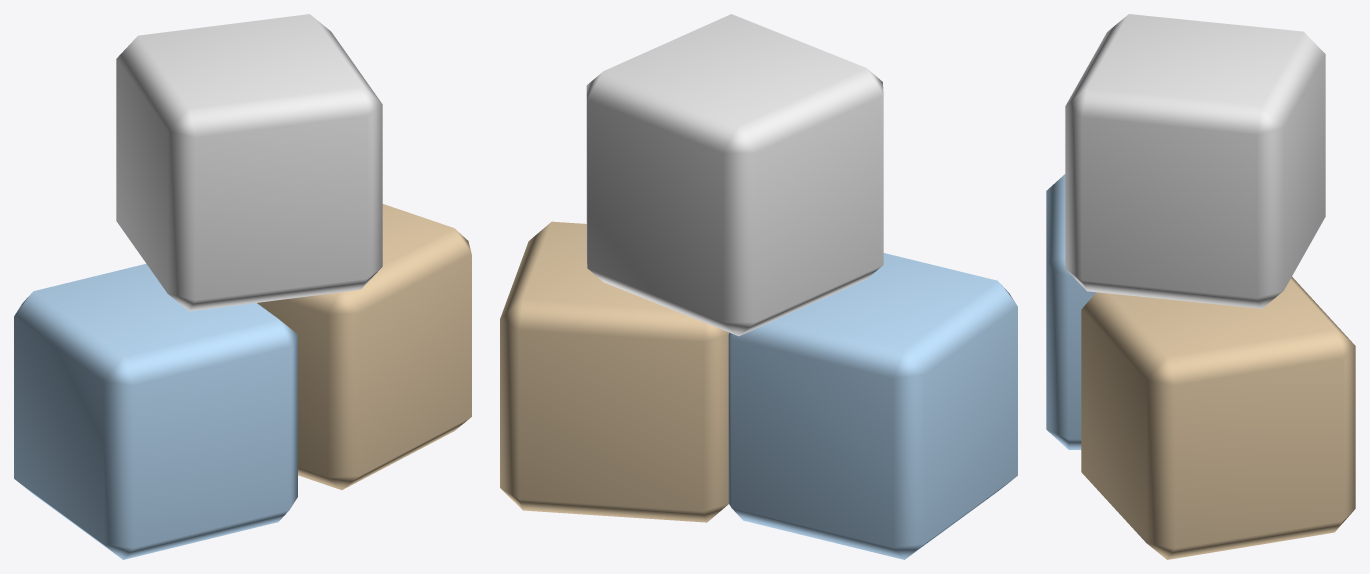
The model's file is prop_011.fbx.
3 views of the same model, side by side, from view 1: azimuth 30°, elevation 25°; view 2: azimuth 150°, elevation 25°; view 3: azimuth 270°, elevation 25° (orthographic). The views are drawn at different scales.
Parts seen in each view (by area): view 1: prop_011; view 2: prop_011; view 3: prop_011.
Boxes of the visible parts, x1,y1,x2,y2 form: prop_011: [14, 14, 471, 559]; prop_011: [500, 14, 1017, 559]; prop_011: [1046, 14, 1355, 559].
Bounding box in the file's own units: 33.41 × 21.39 × 31.05.
